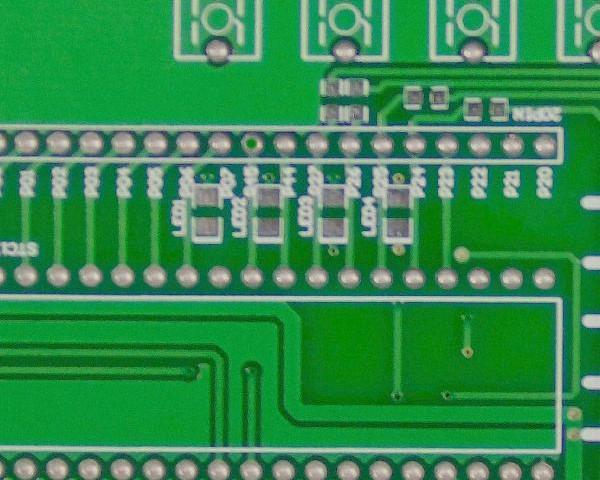missing hole: (238, 128, 268, 158)
